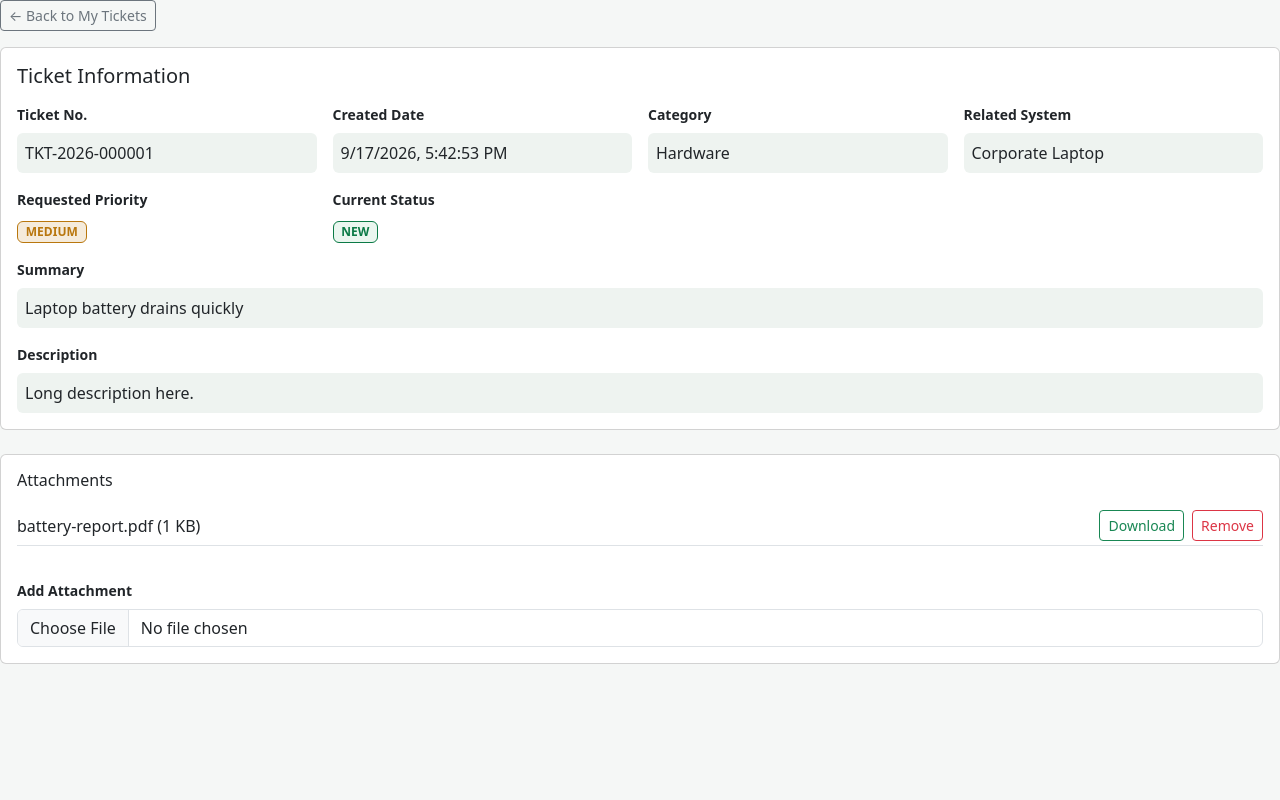
Attachment removal flow › removes an active attachment with a reason and reloads the ticket
This screenshot has width=1280, height=800.
Expected: the text "battery-report.pdf" is shown, top-left (17, 515), bottom-right (153, 537)
Click the button "Remove": (1228, 526) top-left (1192, 510), bottom-right (1263, 541)
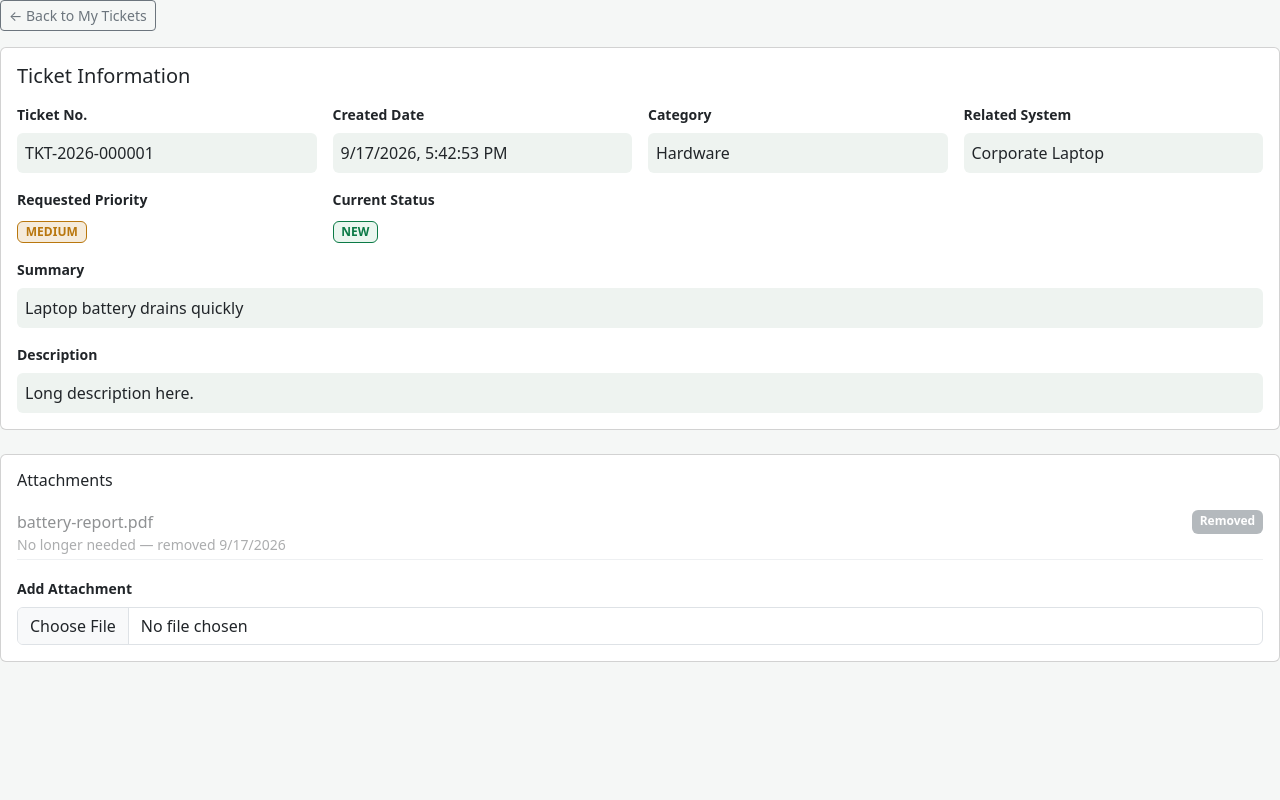
Expected: the text "Removed" is shown, top-left (1192, 510), bottom-right (1263, 534)
